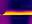Hotspot: (3, 11, 31, 15)
